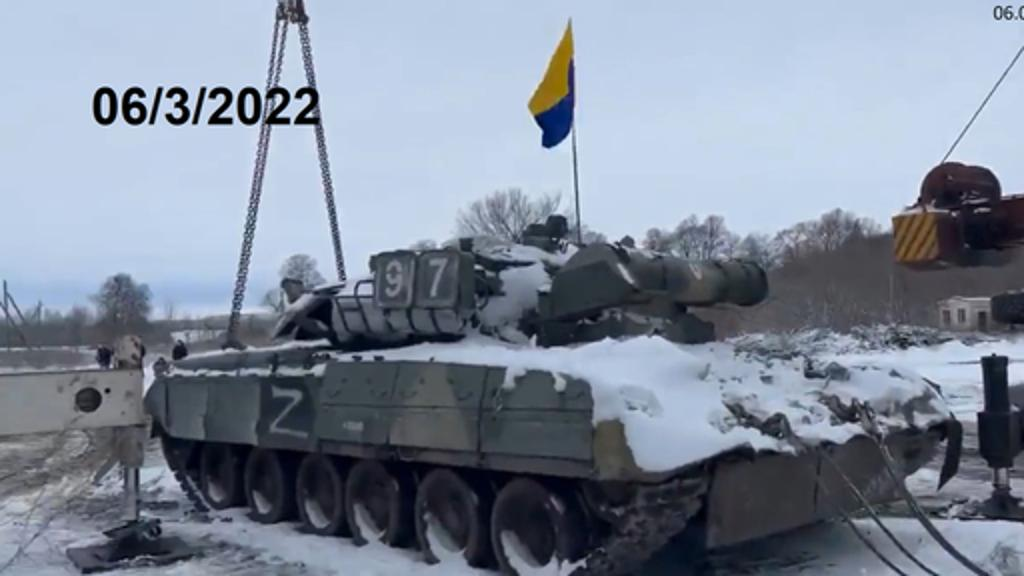TANK: (142, 216, 964, 574)
